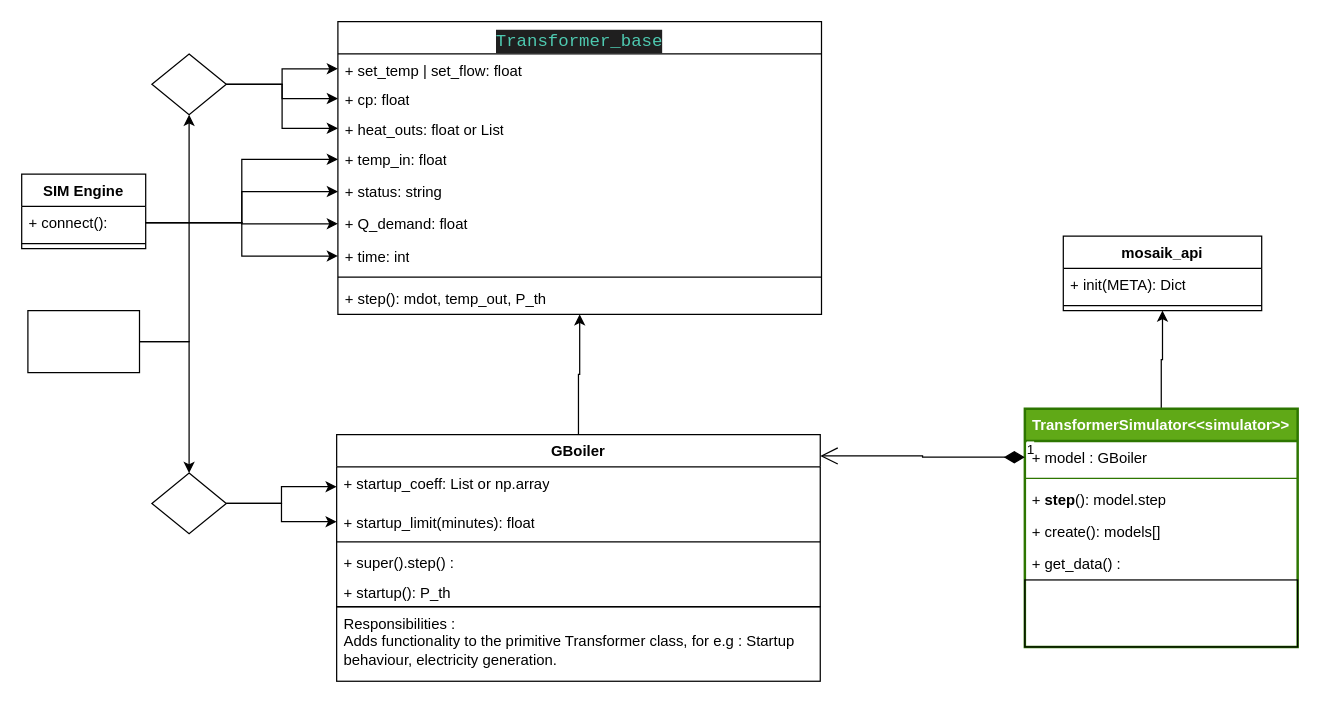
This 1321x707 diagram has some shape labels left out. Here are the shapes that lost their labels. From the top down, the centre of each, then its label:
point 83,341: params <<config>>
point 1161,613: Responsibilities : Contains the methods required by mosaik.
